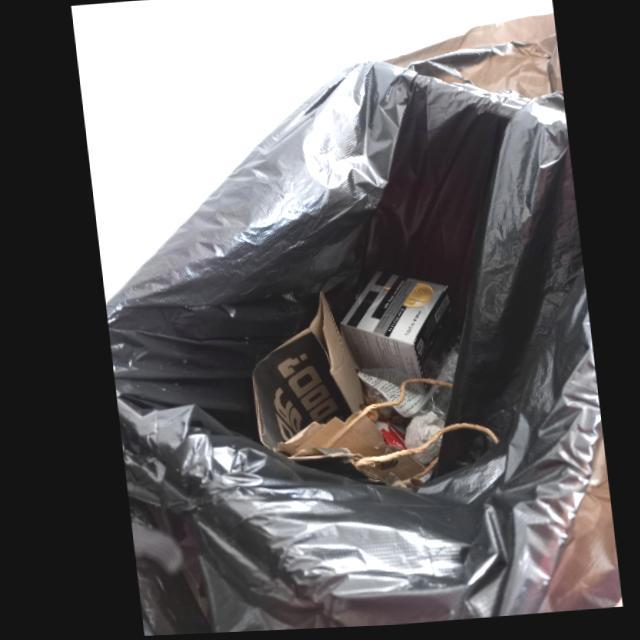paper: (244, 295, 420, 492), (333, 274, 443, 389)
